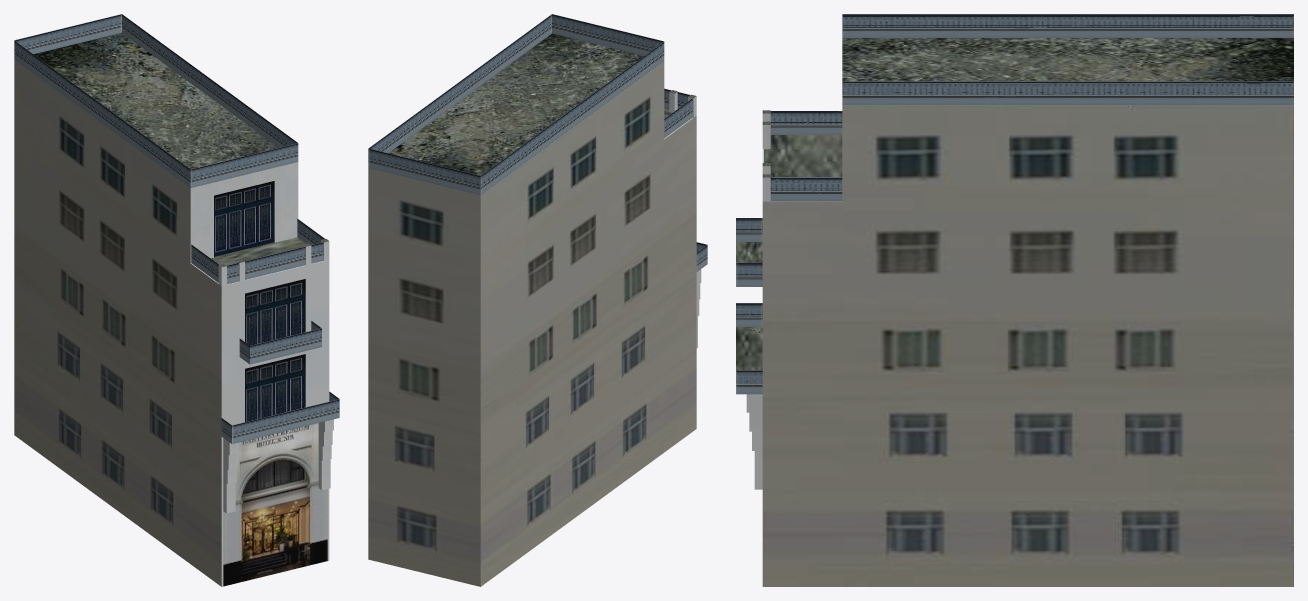
3 views of the same model, side by side, from view 1: azimuth 30°, elevation 25°; view 2: azimuth 150°, elevation 25°; view 3: azimuth 270°, elevation 25° (orthographic). The views are drawn at different scales.
Parts seen in each view (by area): view 1: HN064___Babylon_Premium_Hotel; view 2: HN064___Babylon_Premium_Hotel; view 3: HN064___Babylon_Premium_Hotel.
Part boxes in pixels (x1=…): HN064___Babylon_Premium_Hotel: x1=14, y1=14, x2=339, y2=586; HN064___Babylon_Premium_Hotel: x1=368, y1=14, x2=707, y2=586; HN064___Babylon_Premium_Hotel: x1=736, y1=14, x2=1293, y2=586.
Bounding box in the file's own units: 6 × 21 × 21.
Materials: 1 (1 with a texture image).
